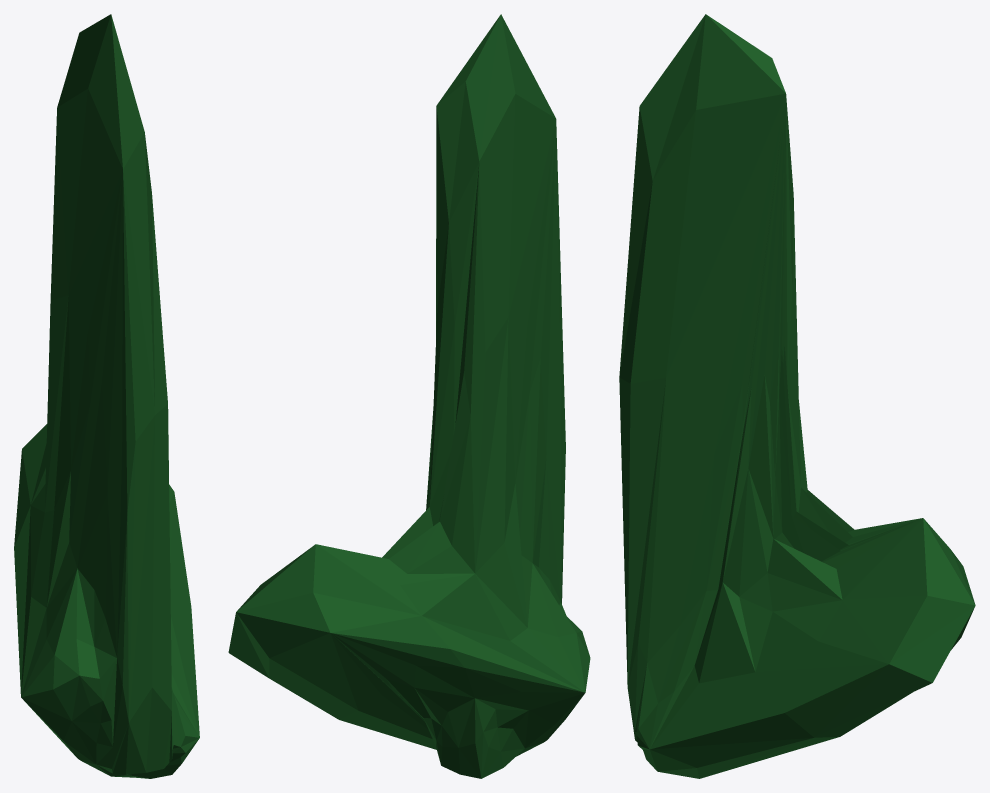
The picture shows the model from 3 angles, left to right: view 1: azimuth 30°, elevation 25°; view 2: azimuth 150°, elevation 25°; view 3: azimuth 270°, elevation 25°; orthographic projection.
Visible parts, largest first — view 1: 845_Cube.3411; view 2: 845_Cube.3411; view 3: 845_Cube.3411.
Part boxes in pixels (x1=…): 845_Cube.3411: x1=14, y1=14, x2=199, y2=778; 845_Cube.3411: x1=228, y1=14, x2=590, y2=778; 845_Cube.3411: x1=619, y1=14, x2=975, y2=778.
Bounding box in the file's own units: 4.24 × 12.51 × 5.35.
